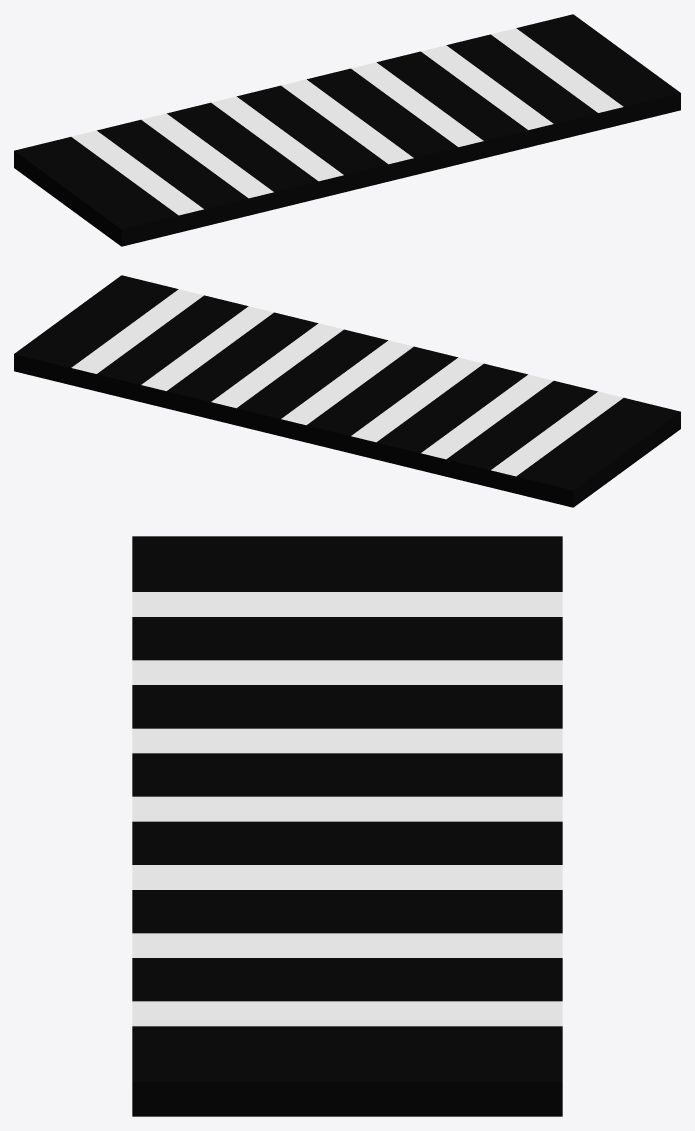
Rendered from Paht_3.fbx.
The picture shows the model from 3 angles, top to bottom: view 1: azimuth 30°, elevation 25°; view 2: azimuth 150°, elevation 25°; view 3: azimuth 270°, elevation 25°; orthographic projection. The views are drawn at different scales.
Parts seen in each view (by area): view 1: Paht_3; view 2: Paht_3; view 3: Paht_3.
Boxes of the visible parts, left/top/right/bottom form: Paht_3: left=14, top=14, right=680, bottom=246; Paht_3: left=14, top=275, right=680, bottom=507; Paht_3: left=132, top=536, right=562, bottom=1116.
Bounding box in the file's own units: 736 × 21.76 × 245.
1 material, 1 textured.
